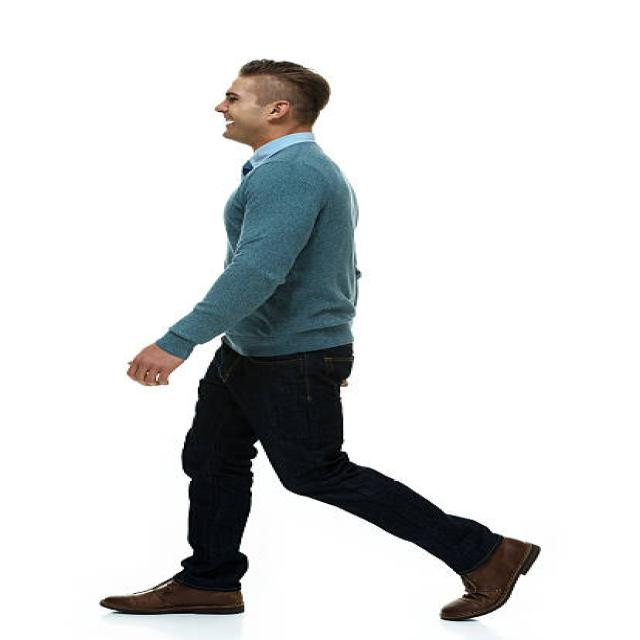Person: (98, 57, 540, 622)
